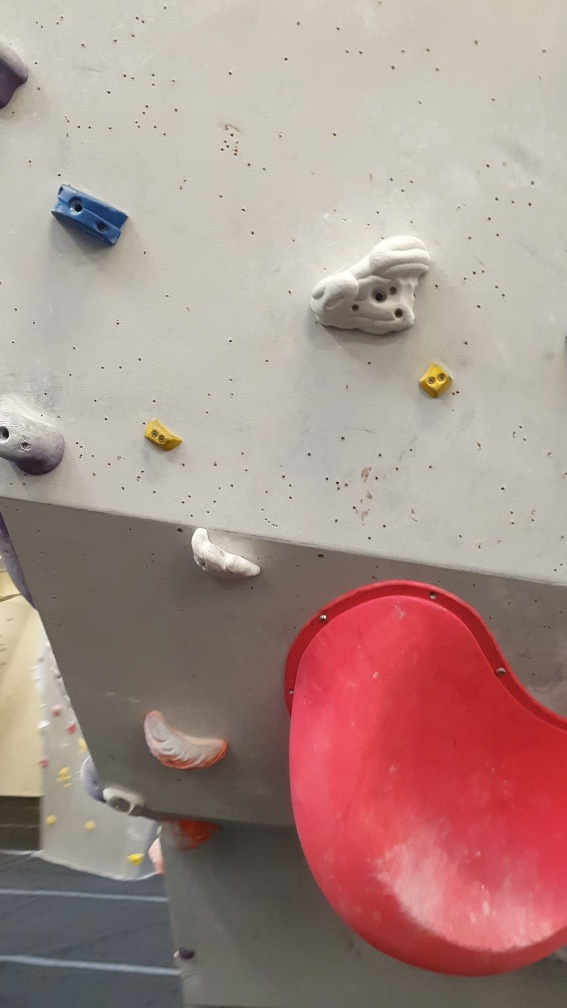Crimp: (135, 415, 194, 450)
Jug: (305, 228, 431, 341), (140, 700, 234, 773), (183, 518, 267, 590)
Pinch: (44, 182, 130, 244), (415, 359, 455, 402)
Sloper: (1, 397, 67, 474)
